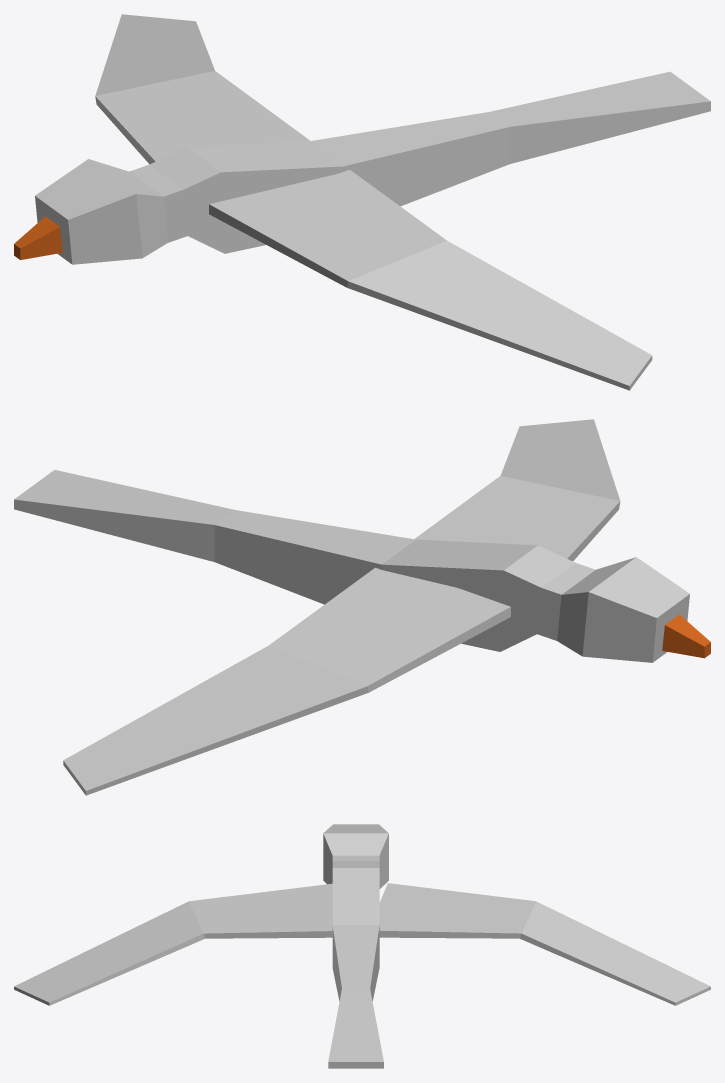
File: Seagull.fbx
The picture shows the model from 3 angles, top to bottom: view 1: azimuth 30°, elevation 25°; view 2: azimuth 150°, elevation 25°; view 3: azimuth 270°, elevation 25°; orthographic projection. The views are drawn at different scales.
Visible parts, largest first — view 1: Cube; view 2: Cube; view 3: Cube.
Boxes of the visible parts, x1,y1,x2,y2 form: Cube: (14, 14, 710, 390); Cube: (14, 419, 710, 795); Cube: (14, 824, 710, 1068).
Size of the model in its own units: 580 by 757 by 79.99.
